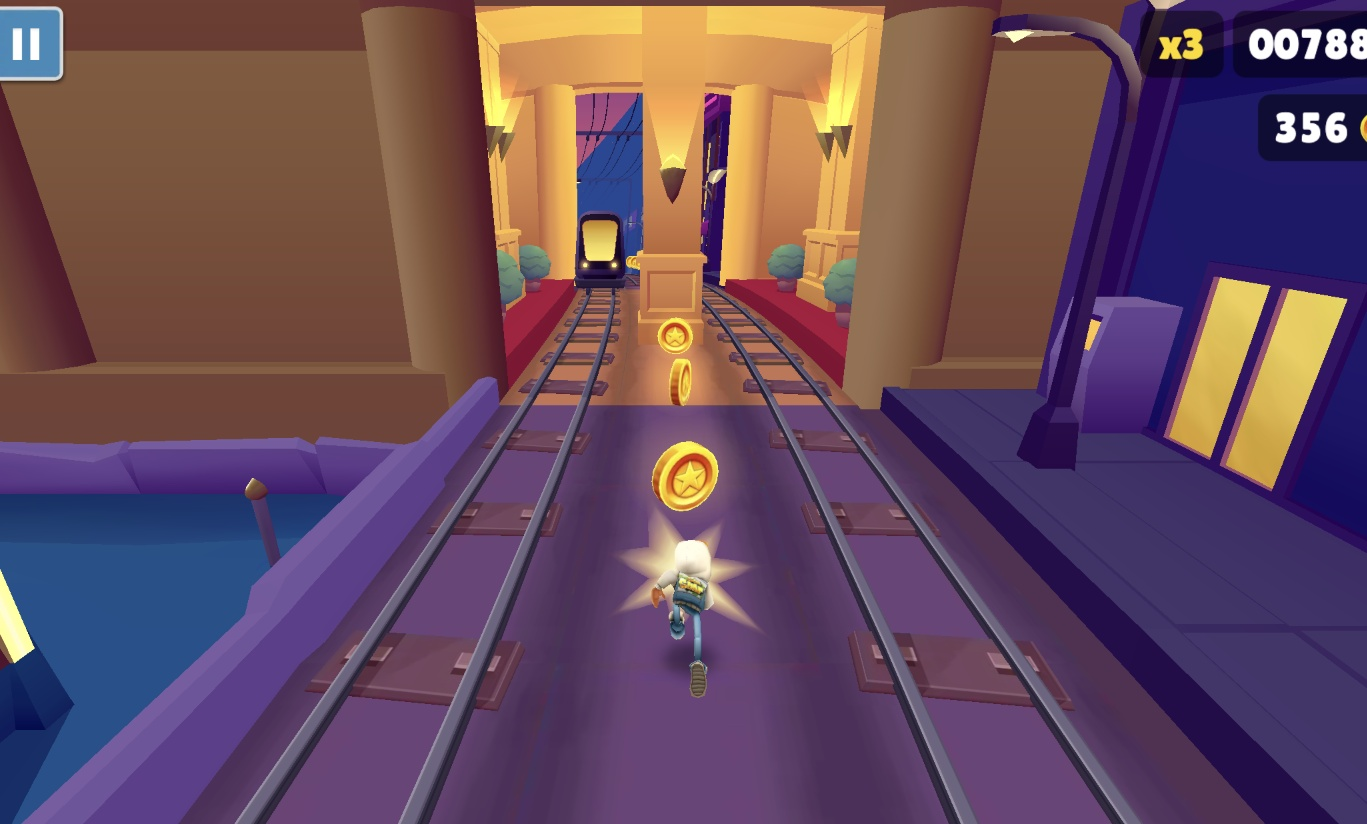pillar: (634, 6, 716, 347)
train: (572, 210, 629, 295)
